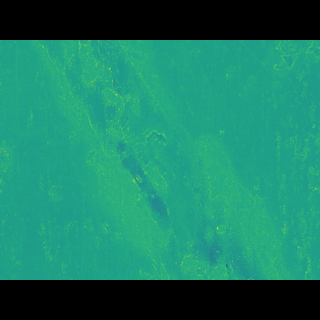Loch: (26, 69, 292, 250)
